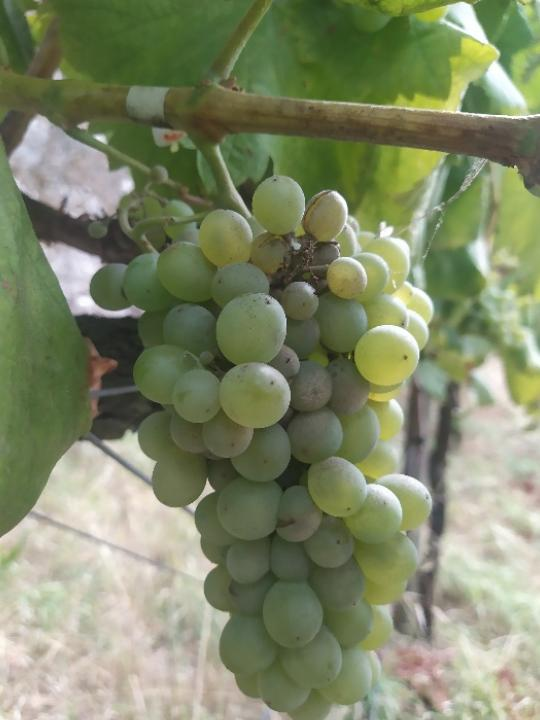grape: (87, 165, 442, 720)
